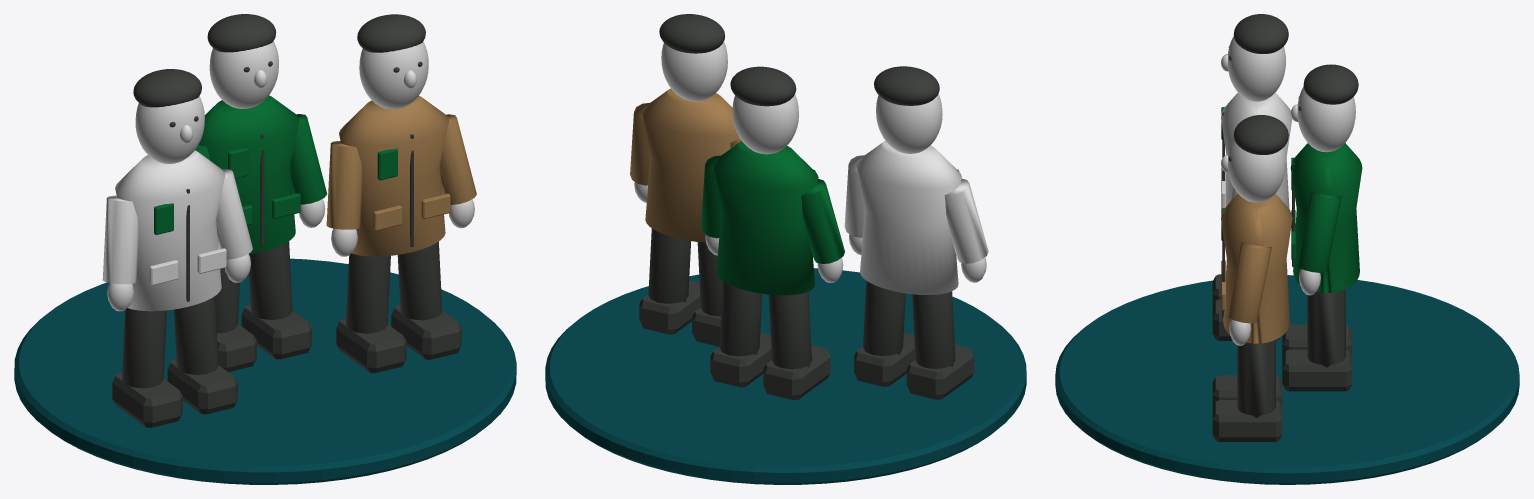
File: research-team.glb
3 renders of one model, left to right at view 1: azimuth 30°, elevation 25°; view 2: azimuth 150°, elevation 25°; view 3: azimuth 270°, elevation 25°, orthographic. The views are drawn at different scales.
Visible parts, largest first — view 1: body, pedestal; view 2: body, pedestal; view 3: pedestal, body.
Boxes of the visible parts, x1,y1,x2,y2 form: body: (102,14,476,427); pedestal: (14,258,516,484); body: (630,14,988,400); pedestal: (545,268,1026,484); pedestal: (1055,275,1519,484); body: (1212,14,1362,441).
Size of the model in its own units: 4.4 by 3.33 by 4.4.
